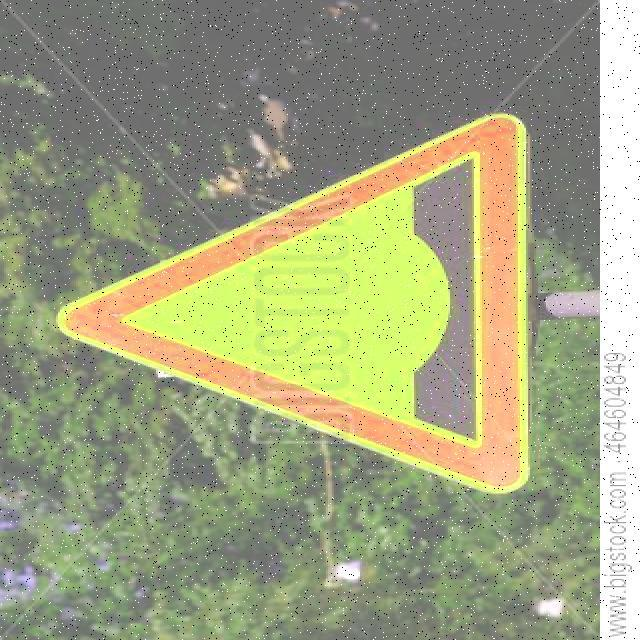Traffic sign: (50, 108, 535, 503)
